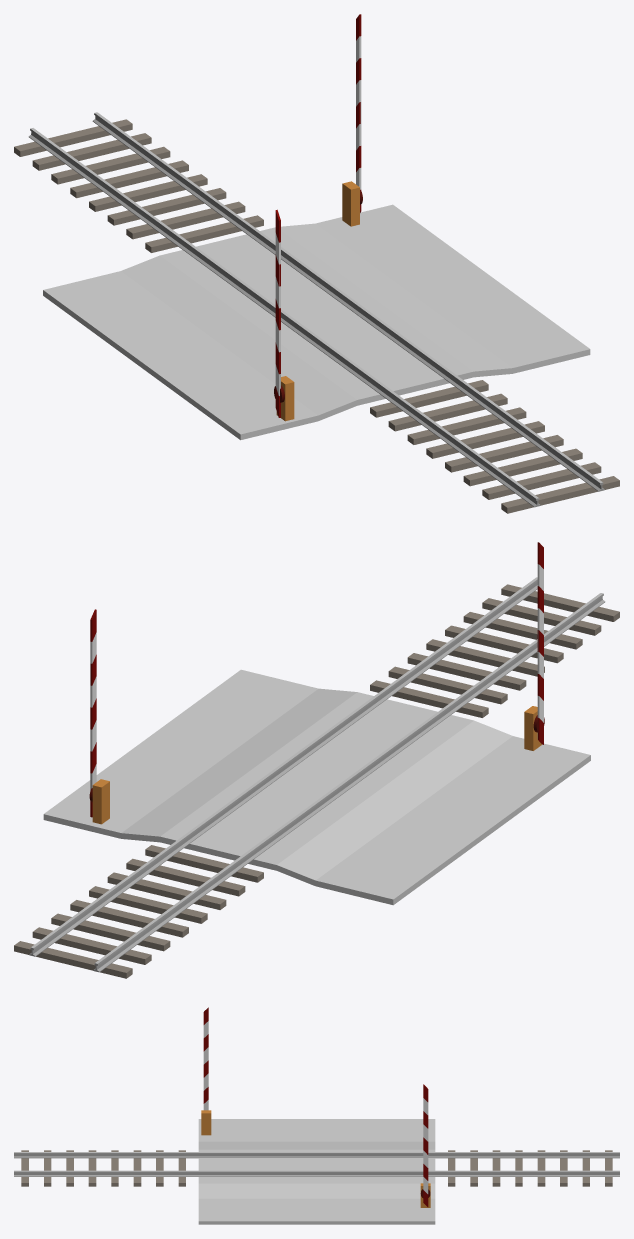
File: perejzd.fbx
The picture shows the model from 3 angles, top to bottom: view 1: azimuth 30°, elevation 25°; view 2: azimuth 150°, elevation 25°; view 3: azimuth 270°, elevation 25°; orthographic projection. The views are drawn at different scales.
Visible parts, largest first — view 1: Grid, Layer_0, Grid.003, Grid.002, Grid.001; view 2: Grid, Layer_0, Grid.003, Grid.002, Grid.001; view 3: Grid, Layer_0, Grid.002, Grid.003.
Boxes of the visible parts, bbox=[...] form: Grid: bbox=[43, 204, 590, 440]; Layer_0: bbox=[14, 112, 619, 513]; Grid.003: bbox=[275, 209, 280, 417]; Grid.002: bbox=[356, 14, 361, 212]; Grid.001: bbox=[342, 181, 359, 226]; Grid: bbox=[43, 669, 590, 905]; Layer_0: bbox=[14, 577, 619, 978]; Grid.003: bbox=[537, 542, 543, 744]; Grid.002: bbox=[90, 609, 96, 817]; Grid.001: bbox=[92, 779, 109, 824]; Grid: bbox=[198, 1119, 435, 1224]; Layer_0: bbox=[14, 1150, 619, 1186]; Grid.002: bbox=[423, 1084, 428, 1206]; Grid.003: bbox=[203, 1007, 208, 1110].
Bounding box in the file's own units: 809 × 472 × 2025.
